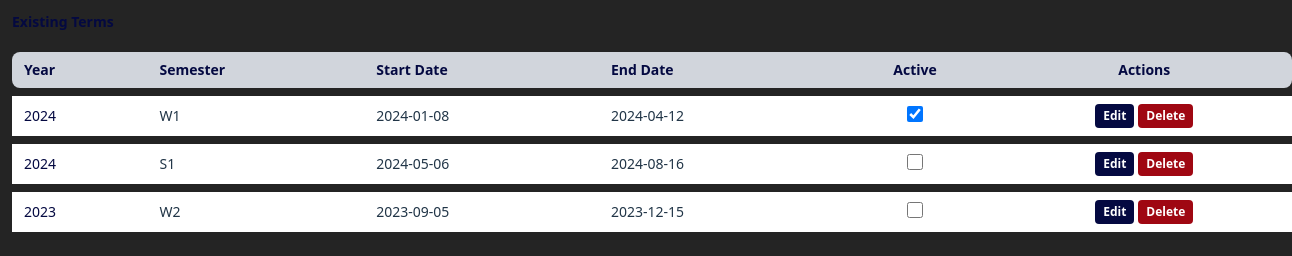
Test case: ExistingTermsTable › enters edit mode when Edit button is clicked
Click the button "Edit" in the row of "W1".
click(1115, 116)  # box x1=1095 y1=104 x2=1134 y2=128
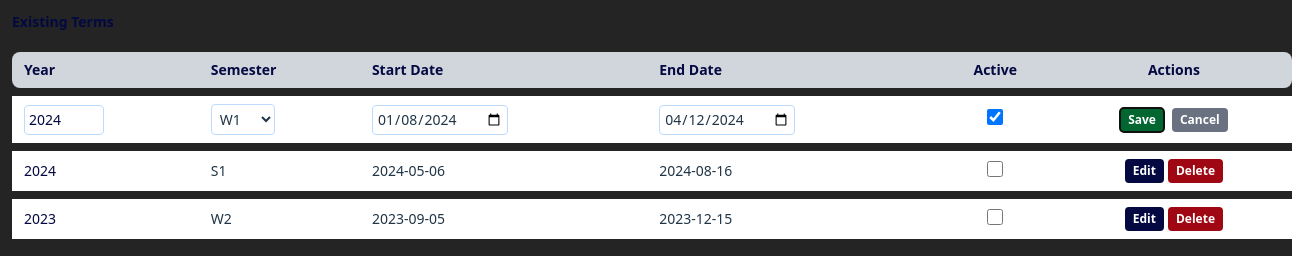
Check: the button "Save" is shown, box x1=1120 y1=108 x2=1164 y2=132
Check: the button "Cancel" is shown, box x1=1172 y1=108 x2=1228 y2=132
Check: the number field showing "2024" is shown, box x1=24 y1=104 x2=104 y2=134
